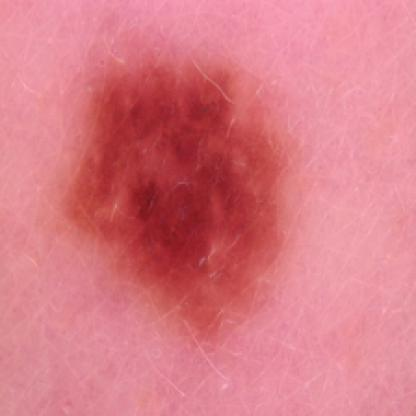benign: (69, 67, 302, 317)
